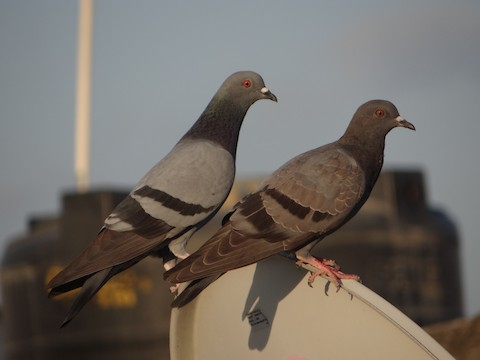pigeon: (39, 65, 283, 339), (155, 96, 427, 313)
